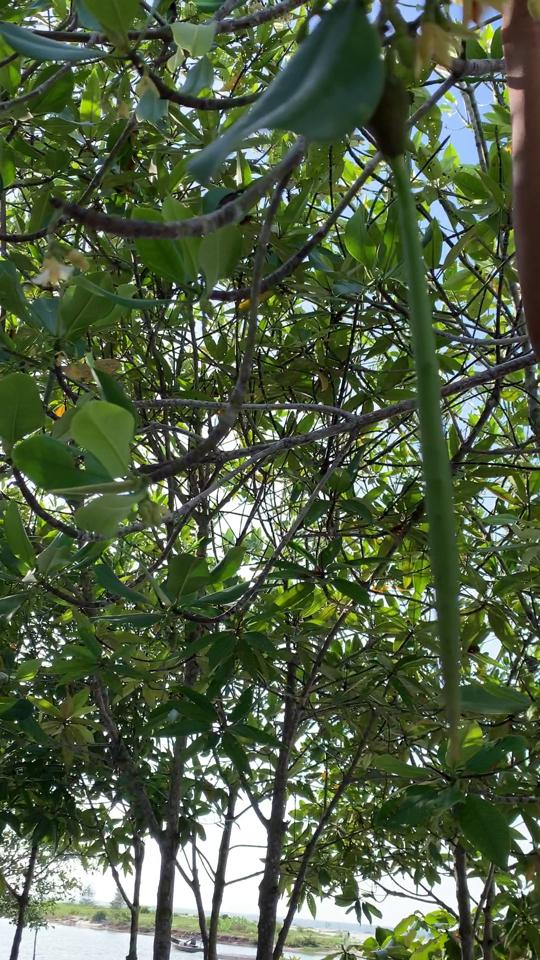mentah: (353, 49, 494, 784)
